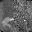people: (2, 17, 14, 28)
